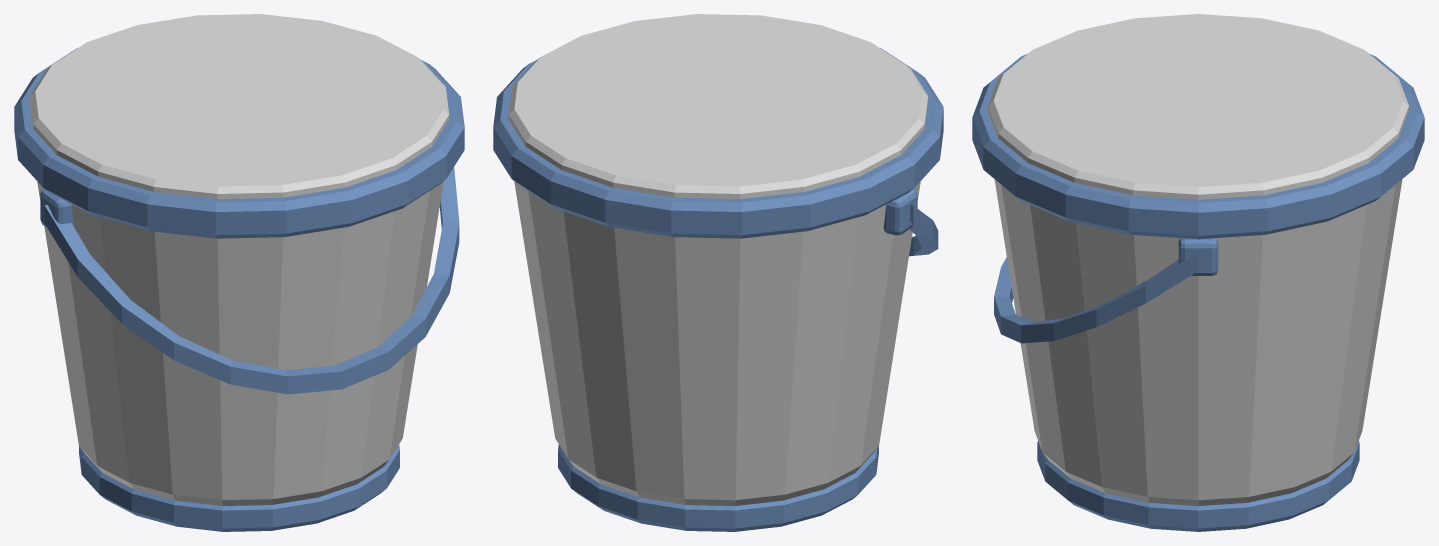
File: bucket.glb
3 renders of one model, left to right at view 1: azimuth 30°, elevation 25°; view 2: azimuth 150°, elevation 25°; view 3: azimuth 270°, elevation 25°, orthographic.
Parts seen in each view (by area): view 1: vessel, lid, rim, lowered-handle, foot, handle-mount.-1; view 2: vessel, lid, rim, foot, lowered-handle, handle-mount.-1; view 3: vessel, lid, rim, foot, lowered-handle, handle-mount.1.
Part boxes in pixels (x1=…): vessel: x1=37, y1=181, x2=443, y2=505; lid: x1=29, y1=14, x2=449, y2=198; rim: x1=14, y1=48, x2=464, y2=238; lowered-handle: x1=44, y1=167, x2=459, y2=394; foot: x1=79, y1=444, x2=399, y2=531; handle-mount.-1: x1=40, y1=189, x2=73, y2=227; vessel: x1=514, y1=181, x2=920, y2=505; lid: x1=508, y1=14, x2=928, y2=198; rim: x1=493, y1=48, x2=943, y2=238; foot: x1=558, y1=444, x2=878, y2=531; lowered-handle: x1=909, y1=205, x2=938, y2=256; handle-mount.-1: x1=883, y1=189, x2=917, y2=235; vessel: x1=994, y1=179, x2=1402, y2=505; lid: x1=988, y1=14, x2=1408, y2=199; rim: x1=972, y1=54, x2=1424, y2=239; foot: x1=1037, y1=441, x2=1359, y2=531; lowered-handle: x1=994, y1=252, x2=1198, y2=343; handle-mount.1: x1=1178, y1=238, x2=1218, y2=275.
Size of the model in its own units: 1.6 by 1.43 by 1.6.
